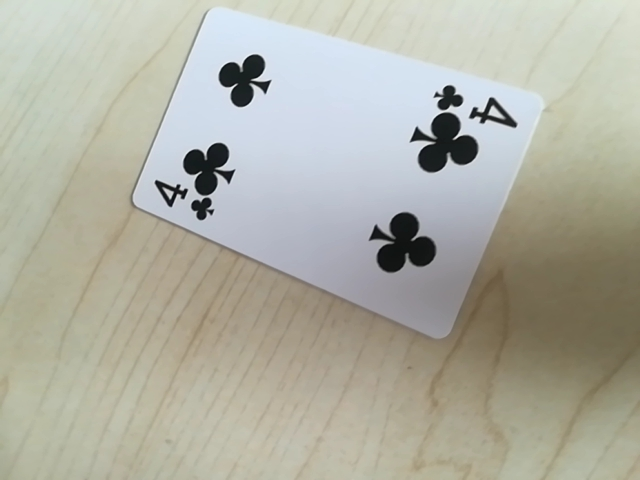mh 4: (433, 83, 520, 129), (149, 180, 224, 224)
